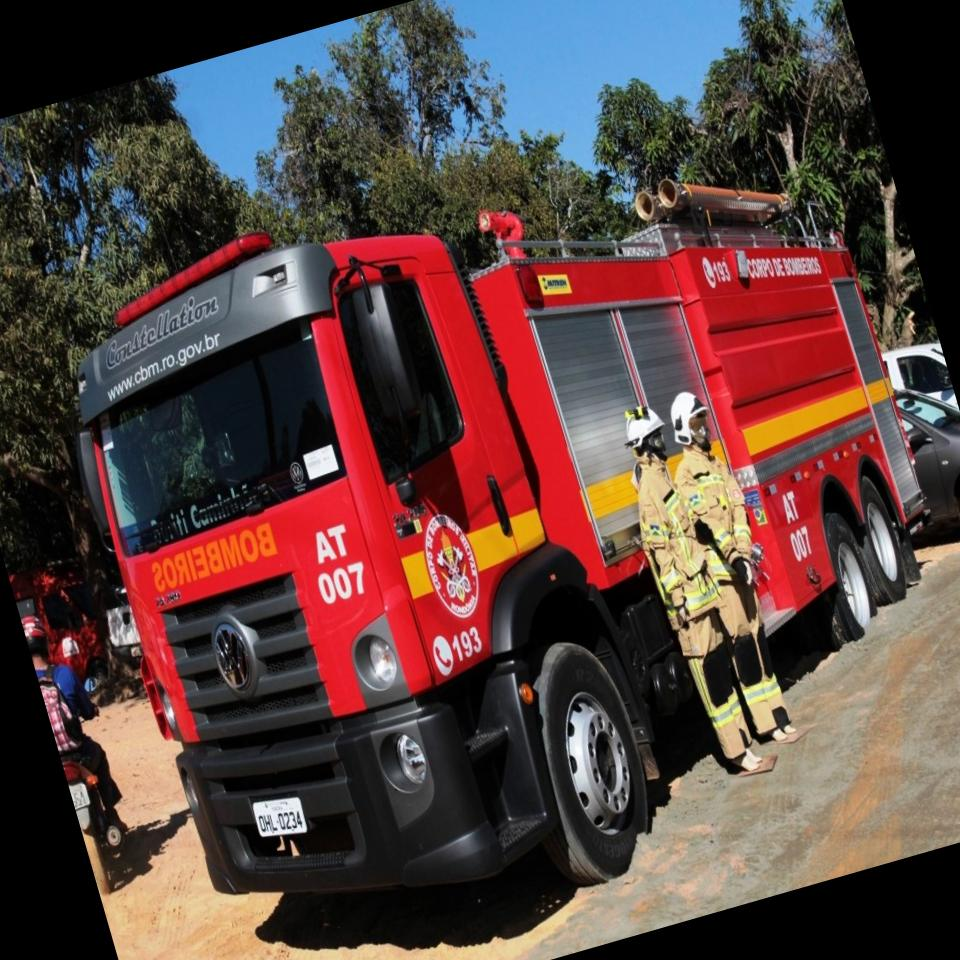viatura: (25, 68, 960, 960)
